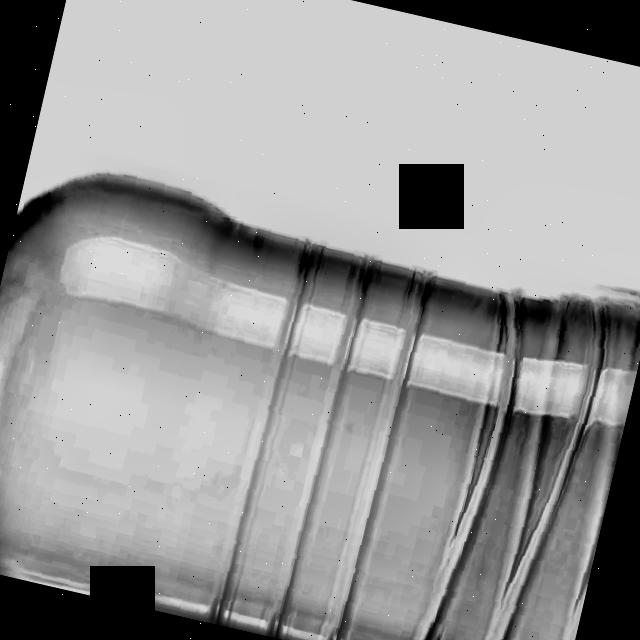bottle: (0, 168, 640, 640)
